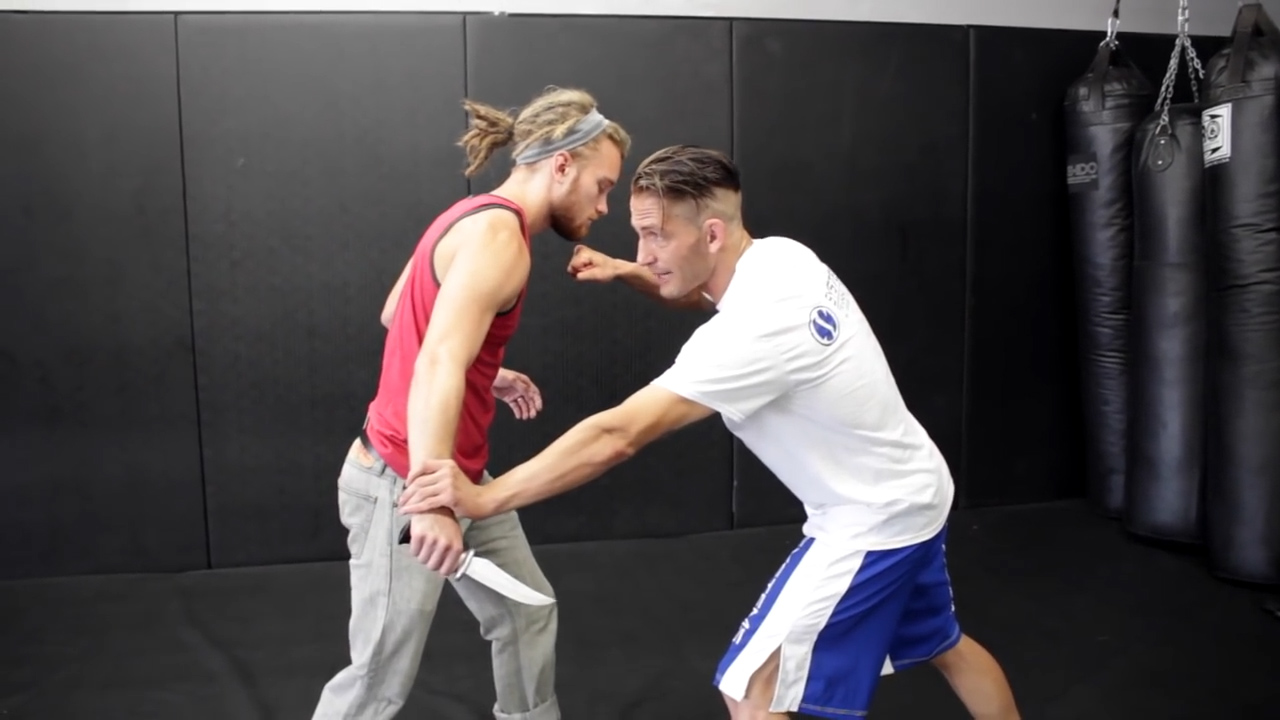knife: (395, 517, 570, 621)
